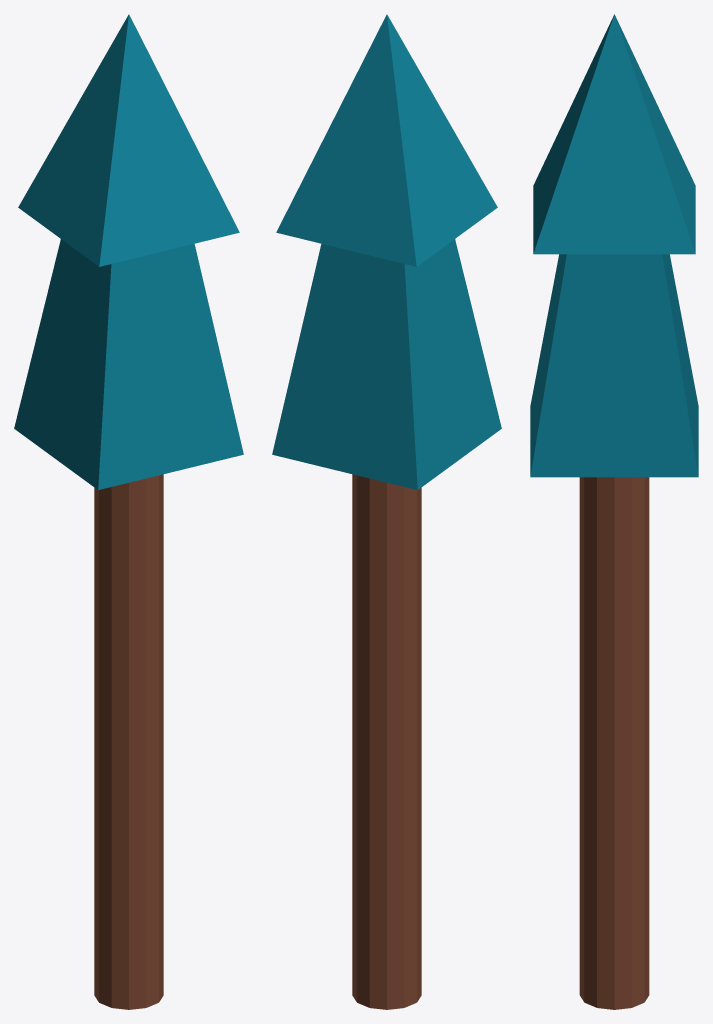
File: Tree_16_summer_blue_mat.fbx
The picture shows the model from 3 angles, left to right: view 1: azimuth 30°, elevation 25°; view 2: azimuth 150°, elevation 25°; view 3: azimuth 270°, elevation 25°; orthographic projection.
Parts seen in each view (by area): view 1: Tree_16_summer_blue_mat; view 2: Tree_16_summer_blue_mat; view 3: Tree_16_summer_blue_mat.
Part boxes in pixels (x1=…): Tree_16_summer_blue_mat: x1=14, y1=14, x2=243, y2=1009; Tree_16_summer_blue_mat: x1=272, y1=14, x2=501, y2=1009; Tree_16_summer_blue_mat: x1=530, y1=14, x2=698, y2=1009.
Bounding box in the file's own units: 53.67 × 345 × 53.67.
